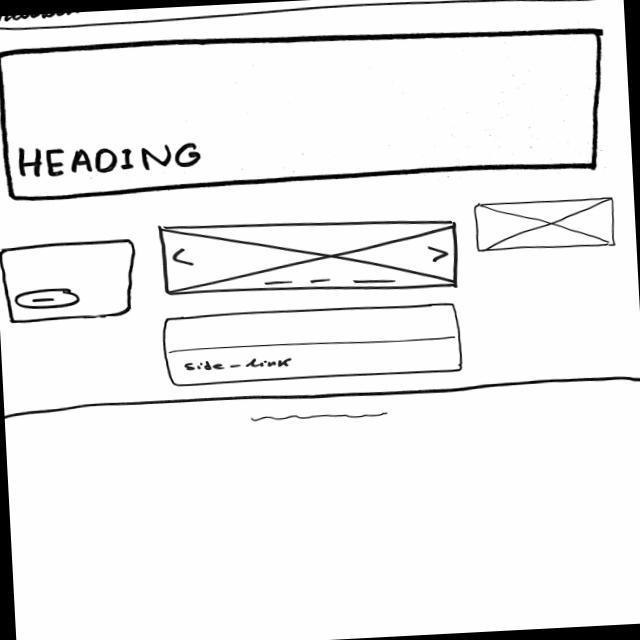container: (1, 17, 614, 202), (164, 301, 469, 390), (1, 1, 624, 33), (1, 237, 142, 327)
image: (157, 210, 463, 305), (475, 195, 621, 256)
label: (17, 137, 205, 180), (183, 356, 297, 375), (1, 12, 94, 24)
text: (249, 410, 391, 428), (16, 287, 84, 313)
